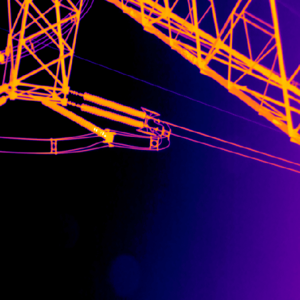insulator: (42, 98, 108, 141), (79, 89, 144, 130)
